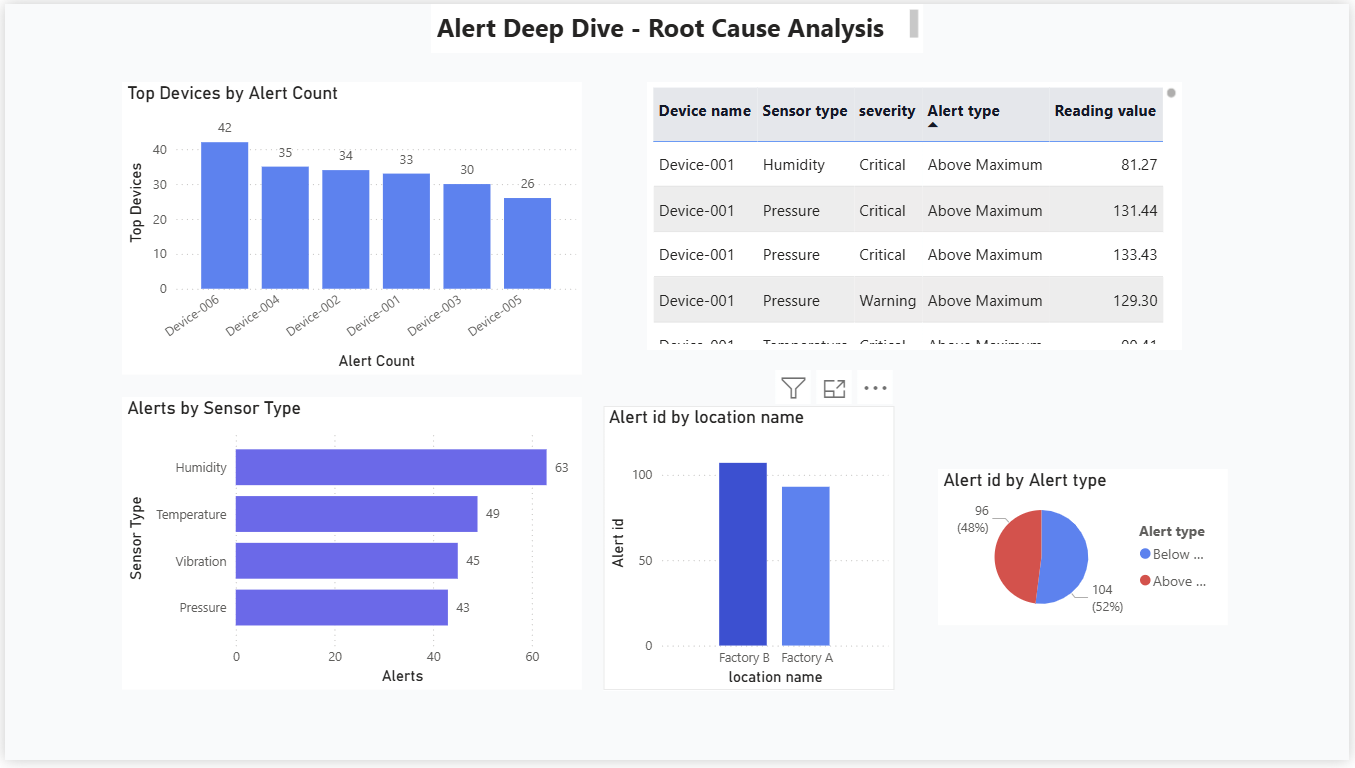

The page's visual inventory and layout, read from the dashboard file:
{"tool":"powerbi","page":{"name":"Alert Deep Dive","canvas":[1280,720],"ordinal":3},"visuals":[{"type":"clusteredColumnChart","fields":{"Category":["public vw_alert_summary.device_name"],"Y":["CountNonNull(public vw_alert_summary.alert_id)"]},"box":[111,73.6,437.7,278.9],"z":0},{"type":"clusteredBarChart","fields":{"Category":["public vw_alert_summary.sensor_type"],"Y":["CountNonNull(public vw_alert_summary.alert_id)"]},"box":[111,374.4,437.7,278.9],"z":1000},{"type":"clusteredColumnChart","fields":{"Category":["public vw_alert_summary.location_name"],"Y":["CountNonNull(public vw_alert_summary.alert_id)"]},"box":[570.7,382.2,276.3,271.2],"z":2000},{"type":"pieChart","fields":{"Category":["public vw_alert_summary.alert_type"],"Y":["CountNonNull(public vw_alert_summary.alert_id)"]},"box":[888.3,442.9,276.3,148.5],"z":3000},{"type":"tableEx","fields":{"Values":["public vw_alert_summary.device_name","public vw_alert_summary.sensor_type","public vw_alert_summary.severity","public vw_alert_summary.alert_type","public vw_alert_summary.reading_value"]},"box":[610.7,73.6,508.7,254.4],"z":4000},{"type":"textbox","box":[405.6,0,468.8,46.4],"z":5000}]}

Visuals, with their boxes in screenshot pixels (x1, y1, x2, y2), scaled from the page's 1280x720 canvas onto the 1355x768 screenshot:
clusteredColumnChart - public vw_alert_summary.device_name x CountNonNull(public vw_alert_summary.alert_id): [118, 79, 581, 376]
clusteredBarChart - public vw_alert_summary.sensor_type x CountNonNull(public vw_alert_summary.alert_id): [118, 399, 581, 697]
clusteredColumnChart - public vw_alert_summary.location_name x CountNonNull(public vw_alert_summary.alert_id): [604, 408, 897, 697]
pieChart - public vw_alert_summary.alert_type x CountNonNull(public vw_alert_summary.alert_id): [940, 472, 1233, 631]
tableEx - public vw_alert_summary.device_name x public vw_alert_summary.sensor_type: [646, 79, 1185, 350]
textbox: [429, 0, 926, 49]
